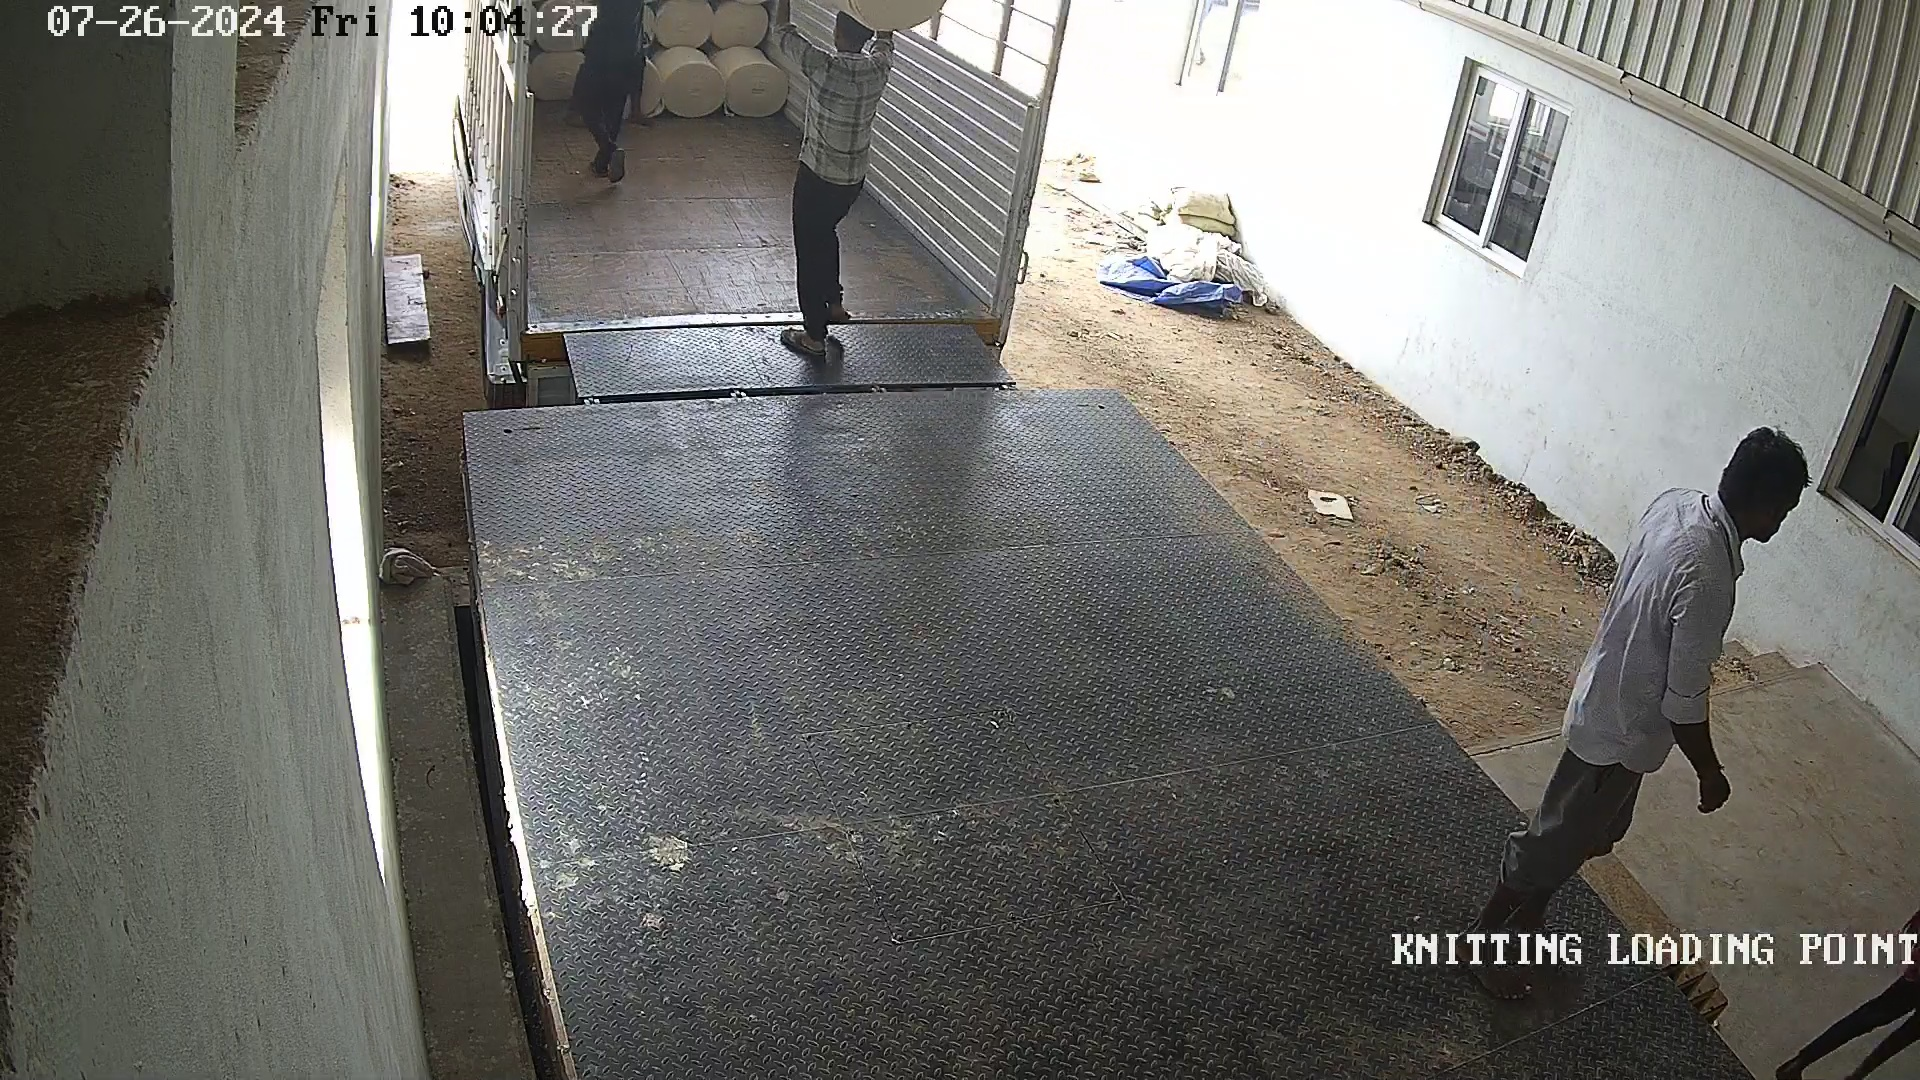bag: (793, 3, 982, 37)
